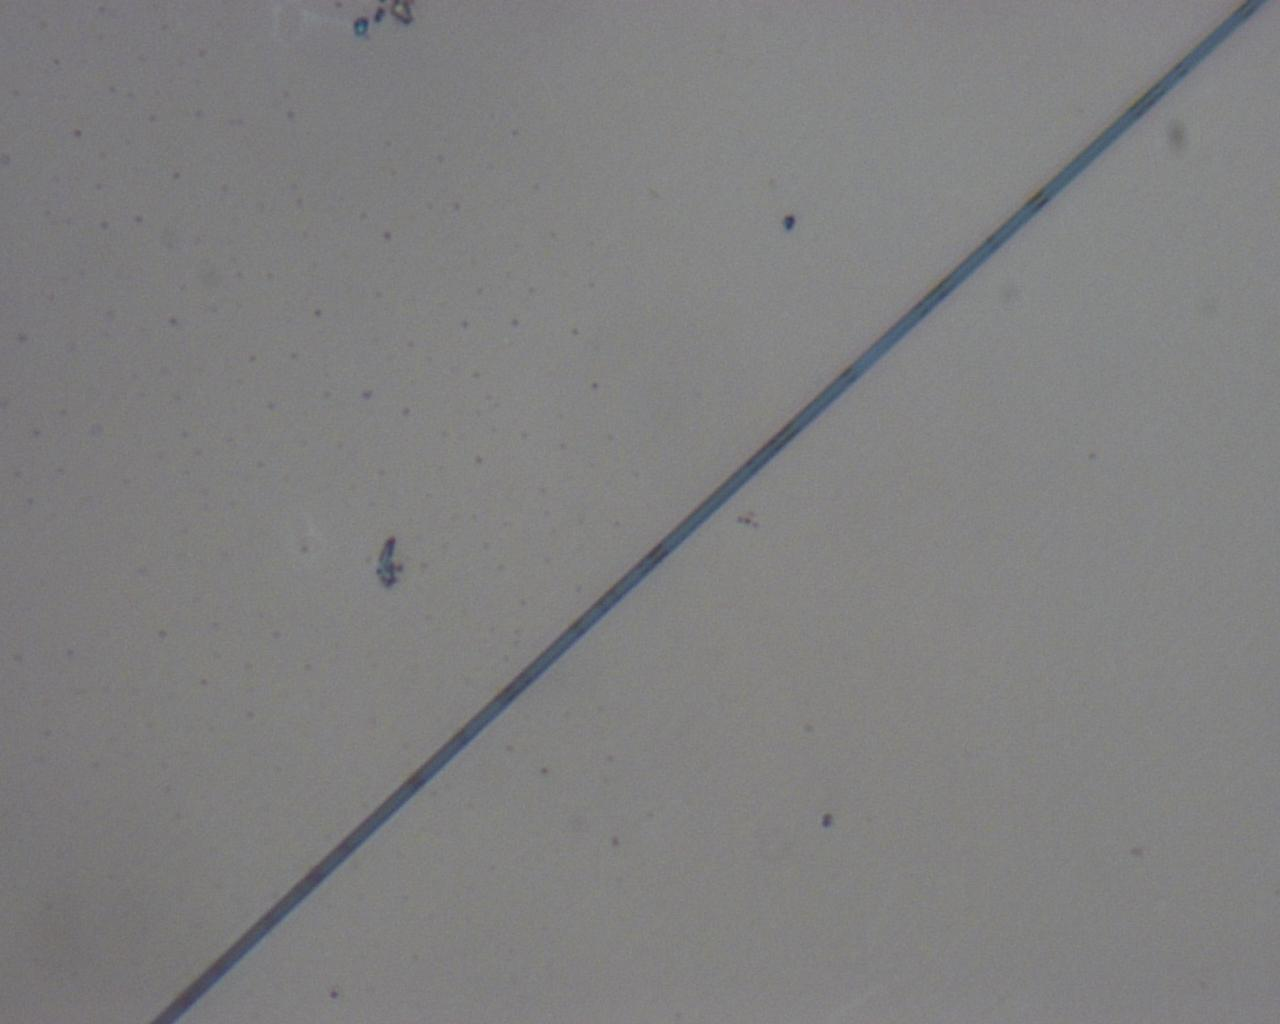fiber: (152, 0, 1266, 1024)
